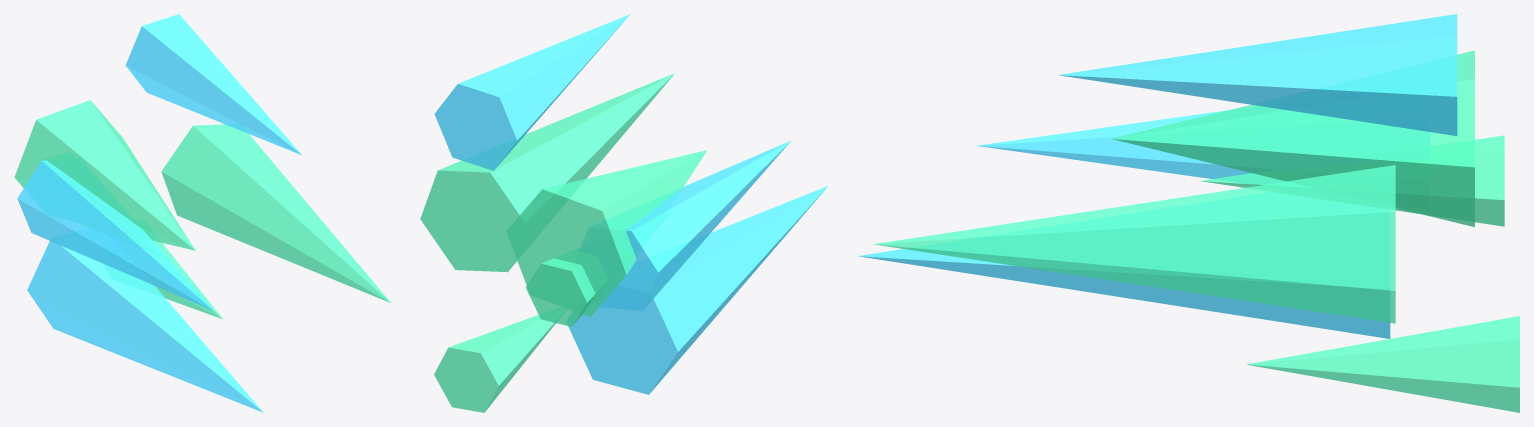
The model's file is 09_Blue_Crystal_Fan.glb.
The picture shows the model from 3 angles, left to right: view 1: azimuth 30°, elevation 25°; view 2: azimuth 150°, elevation 25°; view 3: azimuth 270°, elevation 25°; orthographic projection. The views are drawn at different scales.
Visible parts, largest first — view 1: 09_Blue_Crystal_Fan_00, 09_Blue_Crystal_Fan_05, 09_Blue_Crystal_Fan_03, 09_Blue_Crystal_Fan_02, 09_Blue_Crystal_Fan_01, 09_Blue_Crystal_Fan_06; view 2: 09_Blue_Crystal_Fan_00, 09_Blue_Crystal_Fan_05, 09_Blue_Crystal_Fan_02, 09_Blue_Crystal_Fan_03, 09_Blue_Crystal_Fan_01, 09_Blue_Crystal_Fan_06, 09_Blue_Crystal_Fan_04; view 3: 09_Blue_Crystal_Fan_05, 09_Blue_Crystal_Fan_00, 09_Blue_Crystal_Fan_01, 09_Blue_Crystal_Fan_02, 09_Blue_Crystal_Fan_03, 09_Blue_Crystal_Fan_06, 09_Blue_Crystal_Fan_04.
Part boxes in pixels (left/top/right/bottom): 09_Blue_Crystal_Fan_00: left=161, top=124, right=390, bottom=302; 09_Blue_Crystal_Fan_05: left=27, top=241, right=263, bottom=412; 09_Blue_Crystal_Fan_03: left=17, top=158, right=213, bottom=310; 09_Blue_Crystal_Fan_02: left=14, top=100, right=195, bottom=250; 09_Blue_Crystal_Fan_01: left=125, top=14, right=302, bottom=155; 09_Blue_Crystal_Fan_06: left=152, top=240, right=223, bottom=319; 09_Blue_Crystal_Fan_00: left=420, top=73, right=674, bottom=272; 09_Blue_Crystal_Fan_05: left=567, top=186, right=827, bottom=394; 09_Blue_Crystal_Fan_02: left=506, top=150, right=707, bottom=316; 09_Blue_Crystal_Fan_03: left=580, top=141, right=790, bottom=310; 09_Blue_Crystal_Fan_01: left=434, top=14, right=630, bottom=170; 09_Blue_Crystal_Fan_06: left=434, top=315, right=555, bottom=412; 09_Blue_Crystal_Fan_04: left=525, top=258, right=595, bottom=326; 09_Blue_Crystal_Fan_05: left=857, top=192, right=1390, bottom=338; 09_Blue_Crystal_Fan_00: left=873, top=165, right=1395, bottom=323; 09_Blue_Crystal_Fan_01: left=1058, top=14, right=1457, bottom=135; 09_Blue_Crystal_Fan_02: left=1111, top=50, right=1474, bottom=227; 09_Blue_Crystal_Fan_03: left=976, top=106, right=1429, bottom=184; 09_Blue_Crystal_Fan_06: left=1246, top=316, right=1519, bottom=412; 09_Blue_Crystal_Fan_04: left=1200, top=135, right=1504, bottom=226.
Bounding box in the file's own units: 1.87 × 2.1 × 3.25.
